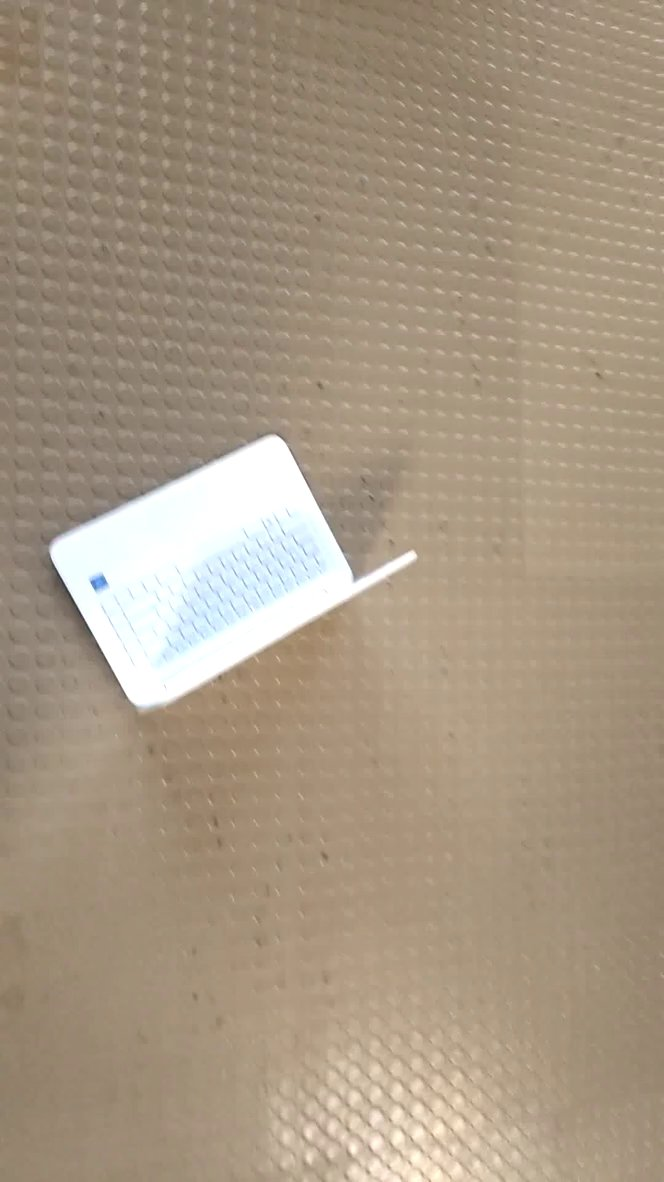laptop: (44, 424, 423, 725)
